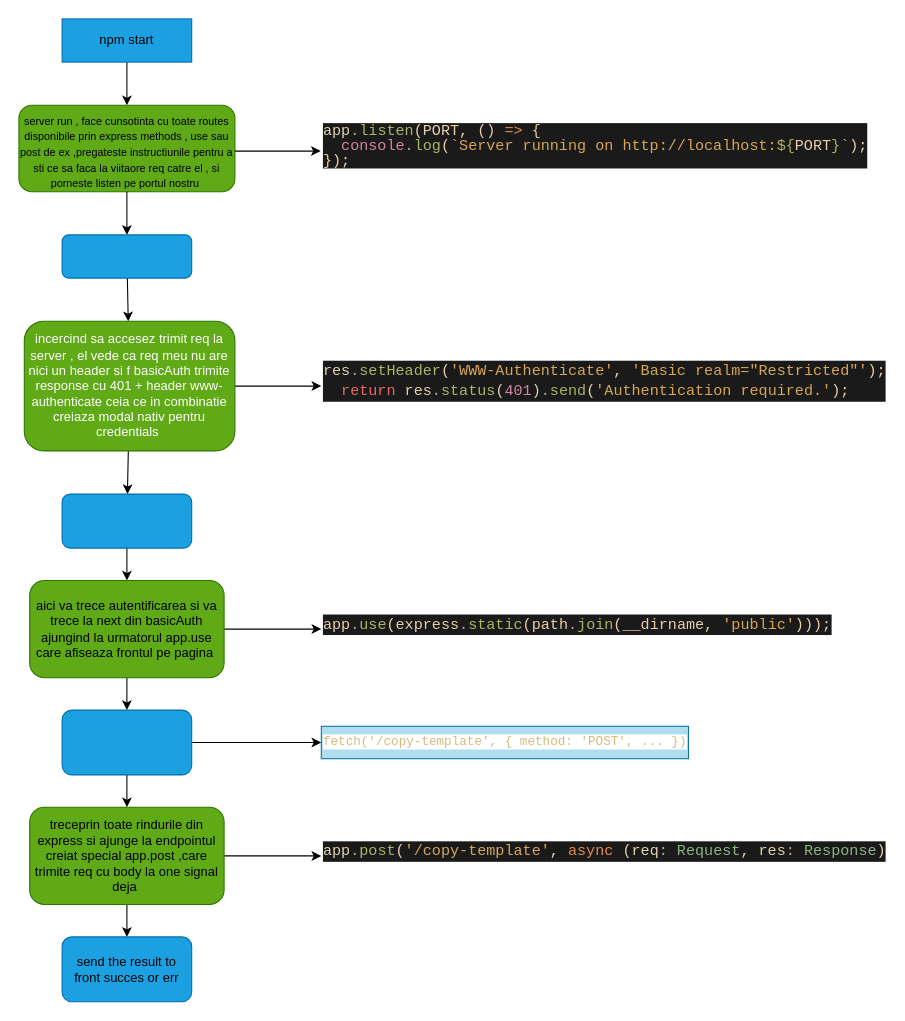
The diagram is 905 pixels wide and 1021 high, and some of its shapes have lost their labels. The shapes that lost their labels are listed below. From the top down, each one's box as (x1, y1, x2, y2) in pixels, then its label:
(61, 234, 192, 278): localhost:PORT
(61, 493, 192, 548): inseram datele si retrimitem alt req cu date pentru auth
(61, 709, 192, 775): inseram datele in formular si apasam send
